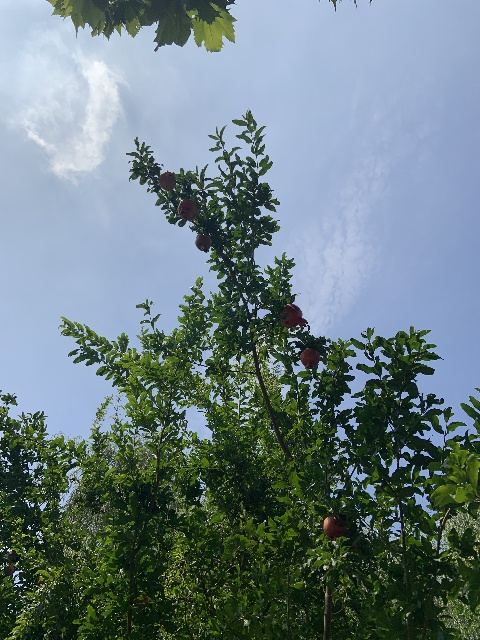ripe: (280, 303, 308, 329), (323, 515, 346, 540), (299, 347, 320, 369), (177, 198, 198, 220), (159, 170, 176, 190), (195, 235, 212, 252)
